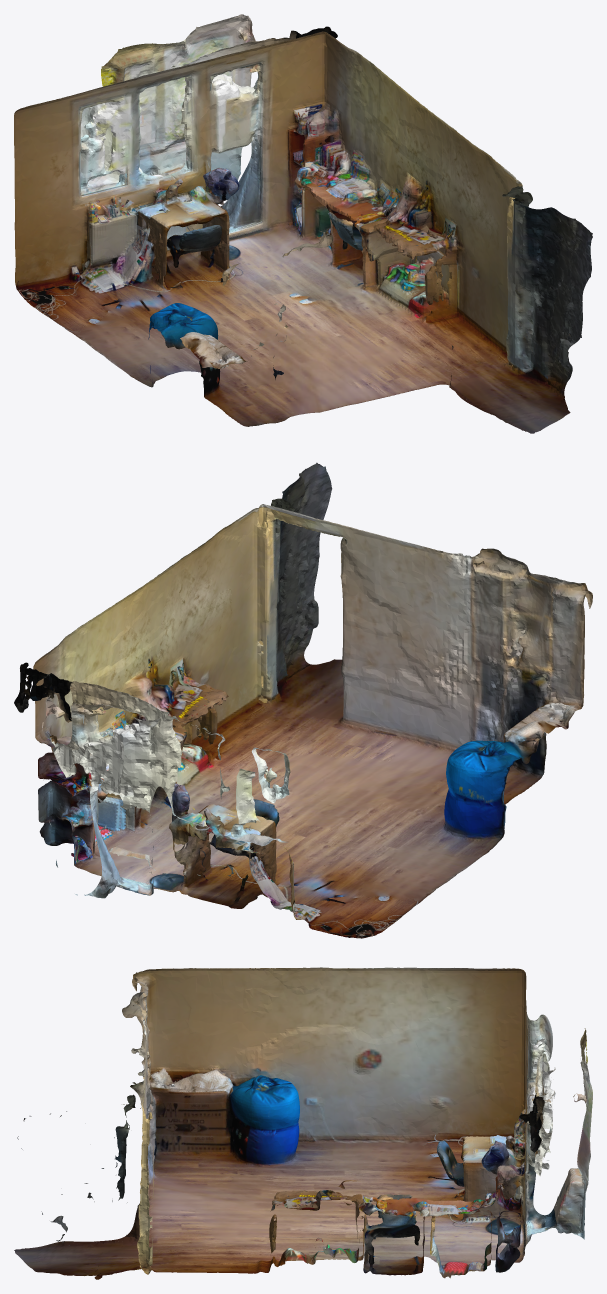
Rendered from polycam3.glb.
3 views of the same model, one above another, from view 1: azimuth 30°, elevation 25°; view 2: azimuth 150°, elevation 25°; view 3: azimuth 270°, elevation 25° (orthographic). The views are drawn at different scales.
Size of the model in its own units: 4.1 by 2.34 by 6.79.
Materials: 2 (2 with a texture image).
